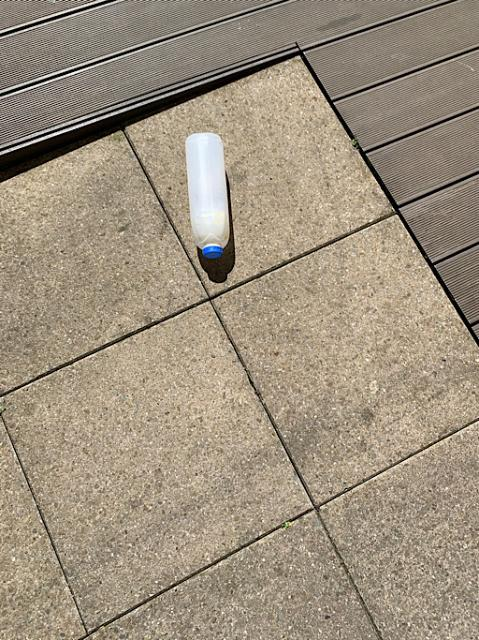plastic: (185, 132, 229, 257)
